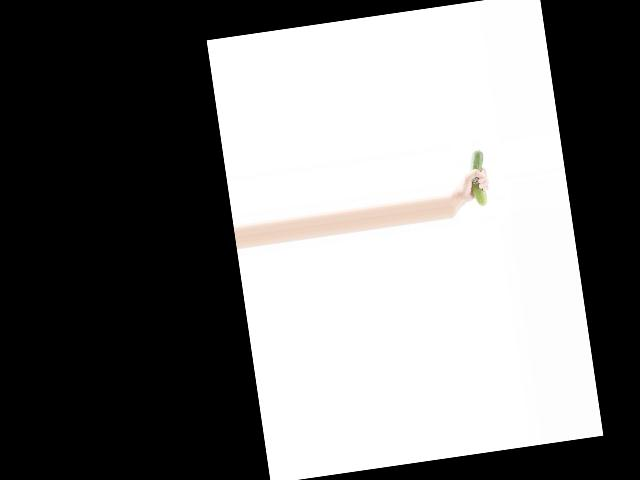cucumber: (466, 149, 491, 206)
